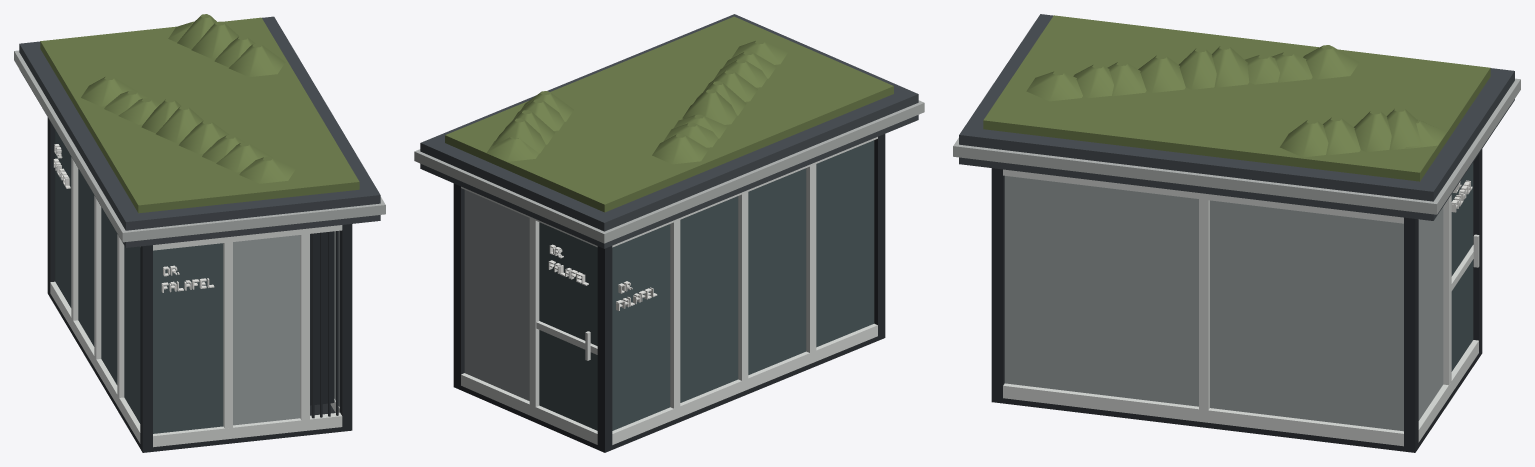
File: kiosk-dr-falafel.glb
3 views of the same model, side by side, from view 1: azimuth 30°, elevation 25°; view 2: azimuth 150°, elevation 25°; view 3: azimuth 270°, elevation 25° (orthographic). The views are drawn at different scales.
Visible parts, largest first — view 1: kiosk-dr-falafel; view 2: kiosk-dr-falafel; view 3: kiosk-dr-falafel.
Part boxes in pixels (left/top/right/bottom): kiosk-dr-falafel: left=14, top=14, right=385, bottom=452; kiosk-dr-falafel: left=414, top=14, right=924, bottom=452; kiosk-dr-falafel: left=953, top=14, right=1520, bottom=452.
Size of the model in its own units: 4.42 by 3.51 by 5.8.
